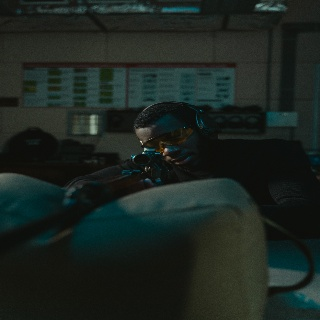rifle: (1, 145, 172, 264)
